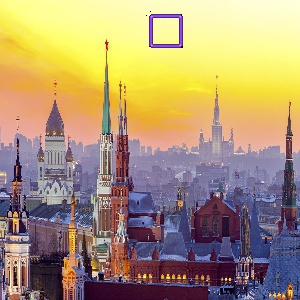square: (149, 14, 184, 49)
